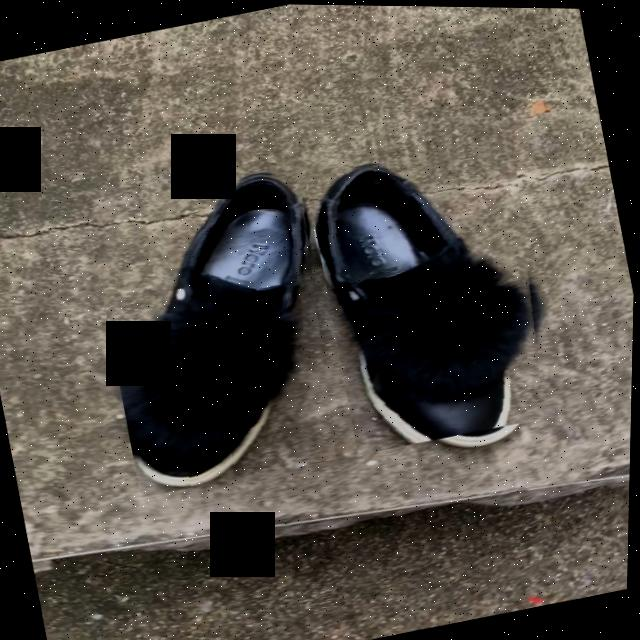shoe: (315, 164, 536, 436), (118, 175, 309, 489)
